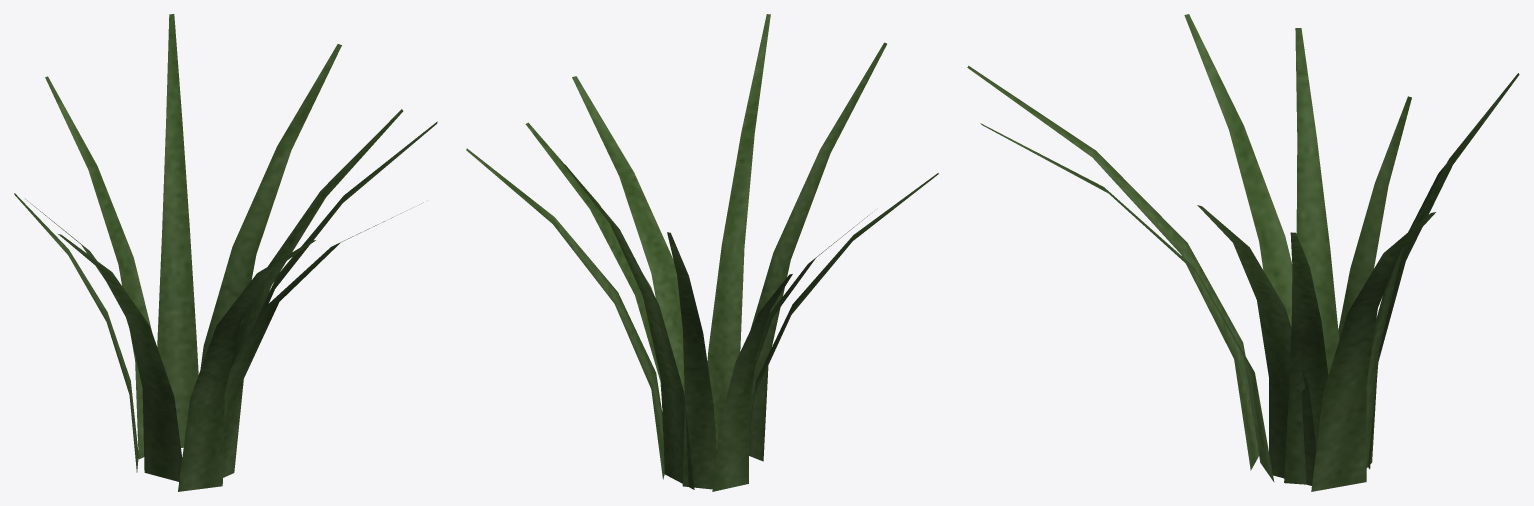
File: grass_tuft_2.glb
3 renders of one model, left to right at view 1: azimuth 30°, elevation 25°; view 2: azimuth 150°, elevation 25°; view 3: azimuth 270°, elevation 25°, orthographic. The views are drawn at different scales.
Visible parts, largest first — view 1: grass_tuft_2; view 2: grass_tuft_2; view 3: grass_tuft_2.
Boxes of the visible parts, x1,y1,x2,y2 form: grass_tuft_2: (14, 14, 437, 491); grass_tuft_2: (466, 14, 938, 491); grass_tuft_2: (967, 14, 1519, 491).
Size of the model in its own units: 0.6088 by 0.5495 by 0.6696.
1 material, 1 textured.
